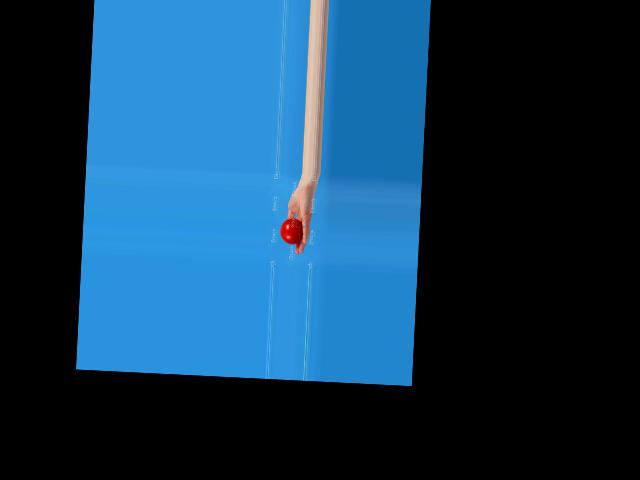tomato: (280, 217, 303, 244)
